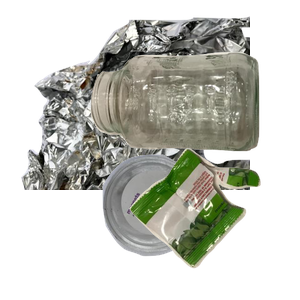glass: (88, 50, 300, 194)
metal: (19, 14, 259, 194)
plastic: (100, 152, 293, 300)
trash: (127, 146, 300, 300)
